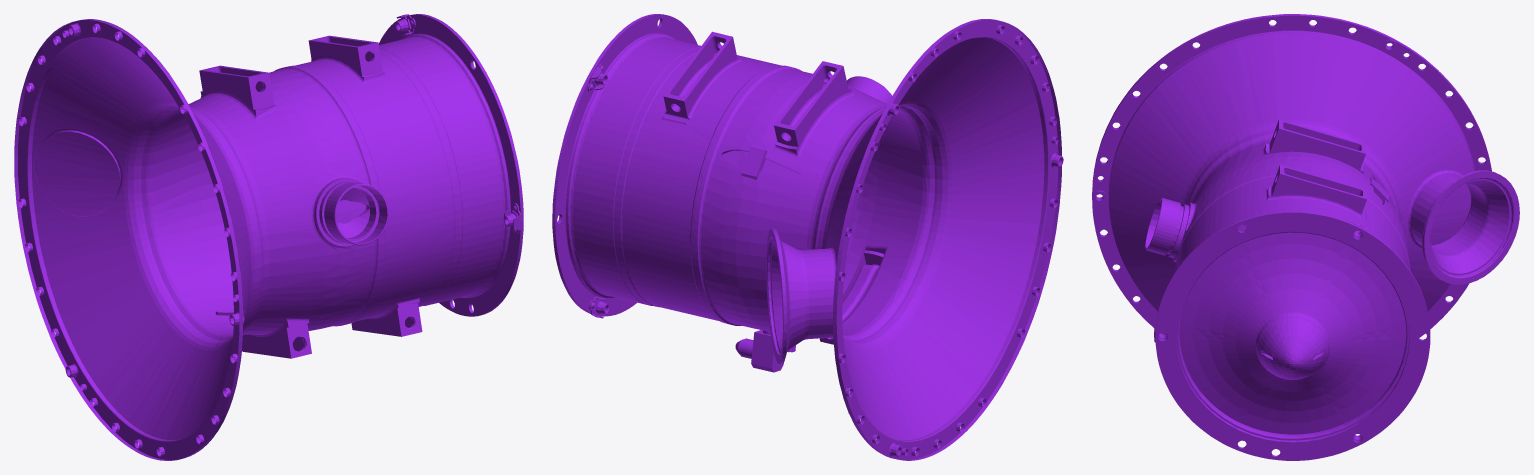
The picture shows the model from 3 angles, left to right: view 1: azimuth 30°, elevation 25°; view 2: azimuth 150°, elevation 25°; view 3: azimuth 270°, elevation 25°; orthographic projection. The views are drawn at different scales.
Parts seen in each view (by area): view 1: M02轴流压气机; view 2: M02轴流压气机; view 3: M02轴流压气机.
Boxes of the visible parts, x1,y1,x2,y2 form: M02轴流压气机: (14,14,523,460); M02轴流压气机: (552,14,1063,460); M02轴流压气机: (1092,14,1519,460).
Size of the model in its own units: 260 by 263 by 280.
